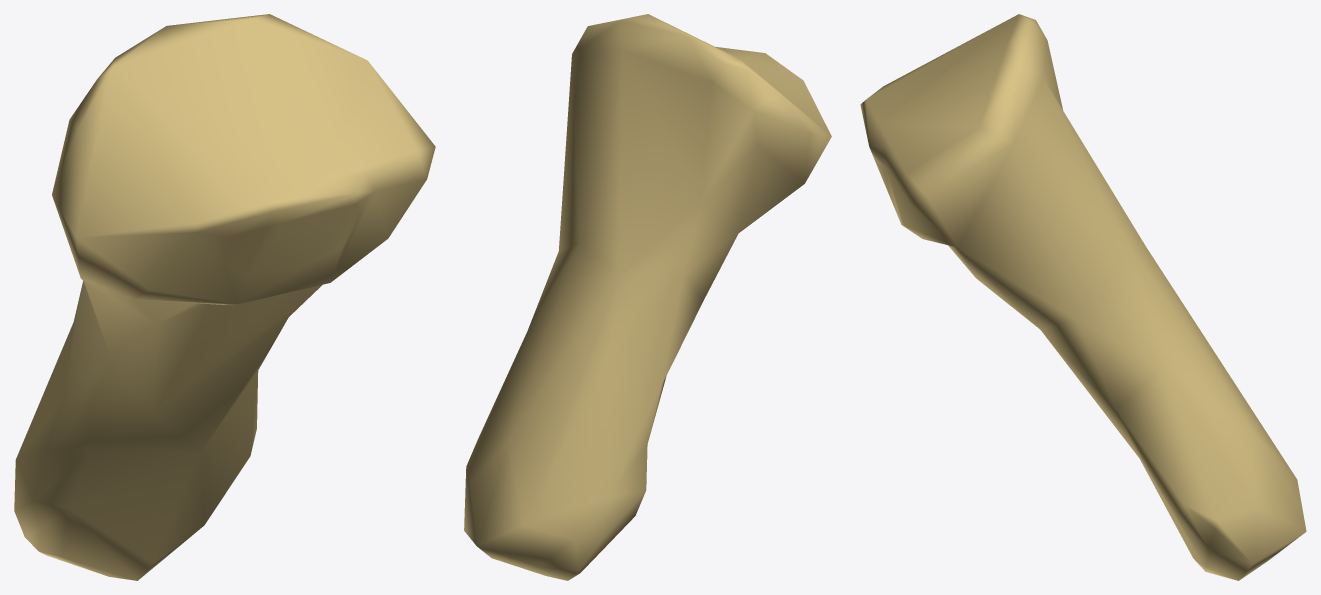
The picture shows the model from 3 angles, left to right: view 1: azimuth 30°, elevation 25°; view 2: azimuth 150°, elevation 25°; view 3: azimuth 270°, elevation 25°; orthographic projection. The views are drawn at different scales.
Visible parts, largest first — view 1: 左侧第三指远节指骨; view 2: 左侧第三指远节指骨; view 3: 左侧第三指远节指骨.
Boxes of the visible parts, box(x1,y1,x2,y2) form: 左侧第三指远节指骨: box(14, 14, 435, 580); 左侧第三指远节指骨: box(464, 14, 831, 580); 左侧第三指远节指骨: box(860, 14, 1306, 580).
Size of the model in its own units: 0.0145 by 0.0264 by 0.0205.
